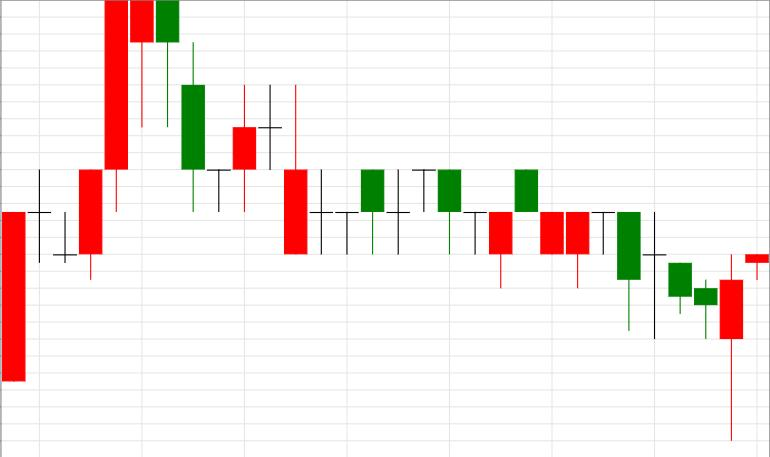bullish_engulfing_rise: (515, 170, 743, 441)
hanging_man_fall: (1, 0, 179, 382), (1, 0, 154, 382)
morning_star_rise: (130, 0, 256, 213)
